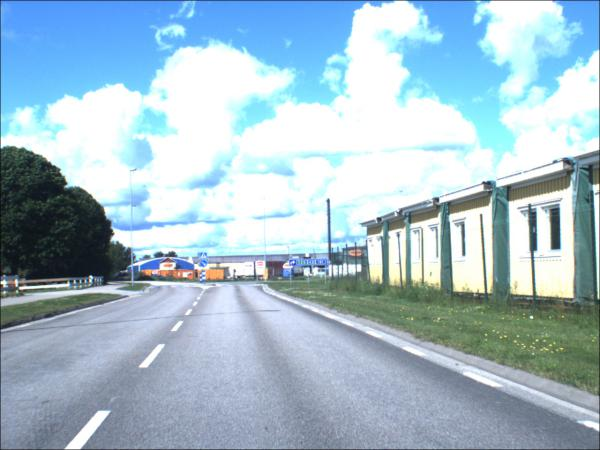PASS_RIGHT_SIDE: (202, 261, 209, 269)
PEDESTRIAN_CROSSING: (202, 254, 209, 261)
